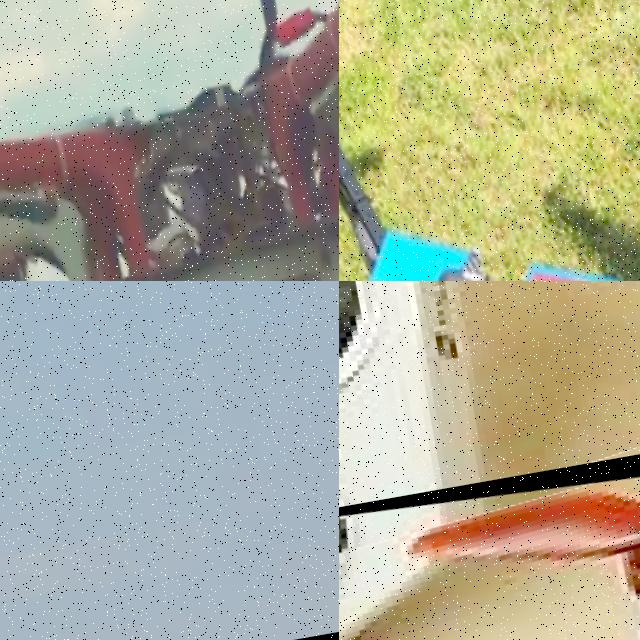drone: (0, 0, 339, 281), (339, 0, 640, 281), (339, 432, 640, 640)
